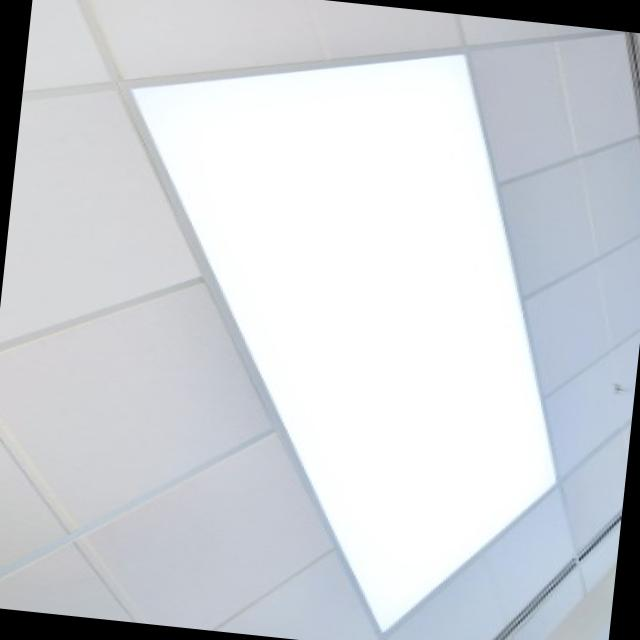light: (122, 48, 559, 633)
